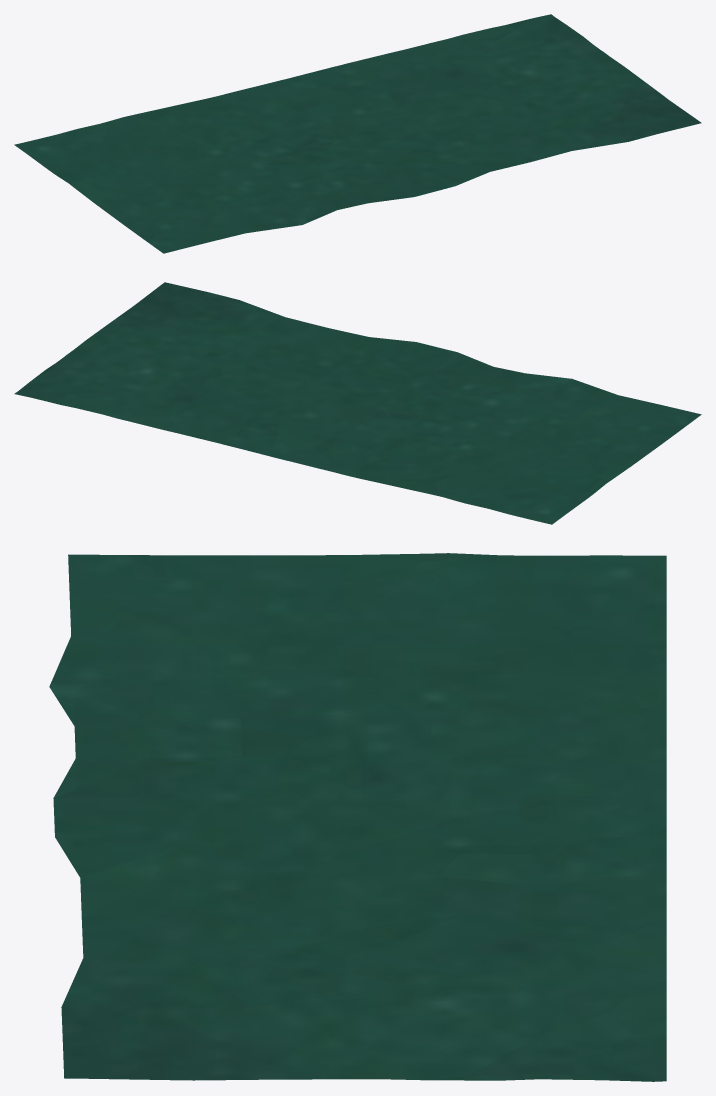
3 views of the same model, one above another, from view 1: azimuth 30°, elevation 25°; view 2: azimuth 150°, elevation 25°; view 3: azimuth 270°, elevation 25° (orthographic). The views are drawn at different scales.
Size of the model in its own units: 52.22 by 0.2863 by 25.98.
Materials: 1 (1 with a texture image).
